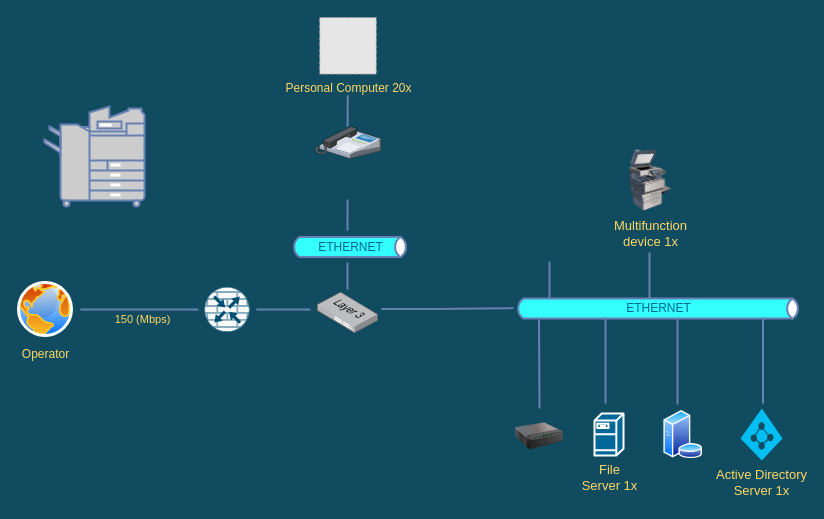
This 824x519 diagram has some shape labels left out. Grey dashed boxes stand in for pictures. Each missing label, with the centre of its shape:
"Database Server 1x" belongs at pixel 682 434.
"IP phone 20x LAN/Ethernet" belongs at pixel 347 142.
"Print Server 1x" belongs at pixel 539 436.
